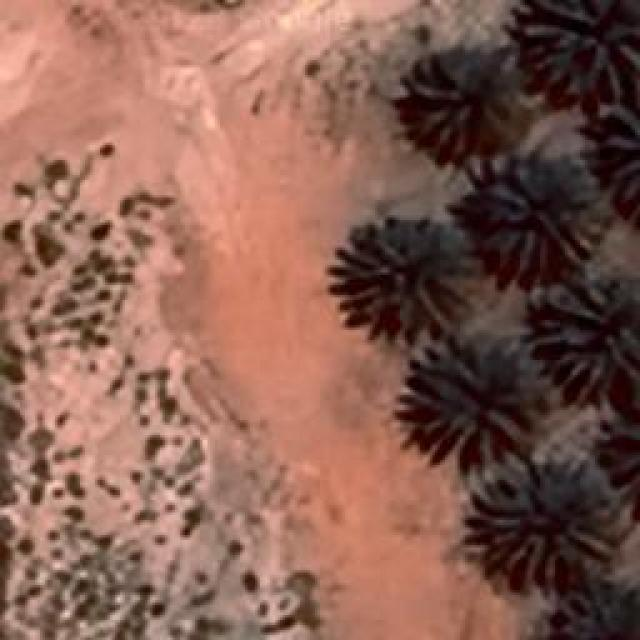PalmTree: (105, 105, 594, 609), (468, 450, 620, 580), (91, 61, 472, 112), (337, 218, 485, 332), (410, 335, 540, 455), (480, 162, 605, 268), (534, 275, 638, 395), (518, 0, 638, 88), (603, 385, 640, 514), (600, 94, 638, 208)
